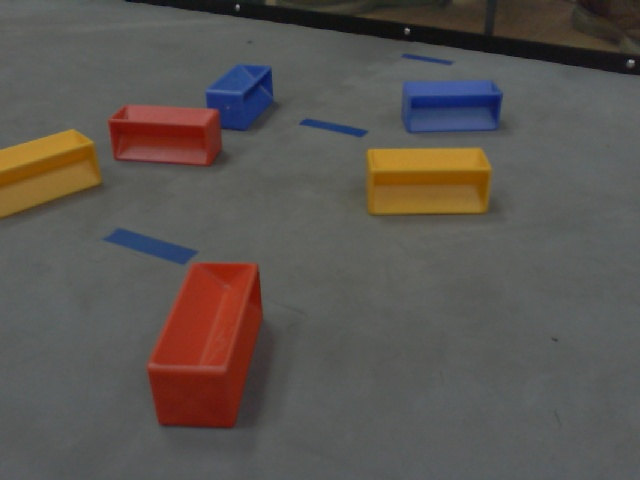BlueSample: (396, 79, 504, 136), (202, 62, 276, 129)
RedSample: (145, 254, 265, 431), (102, 102, 224, 171)
YellowSample: (363, 145, 493, 218), (1, 125, 104, 216)
